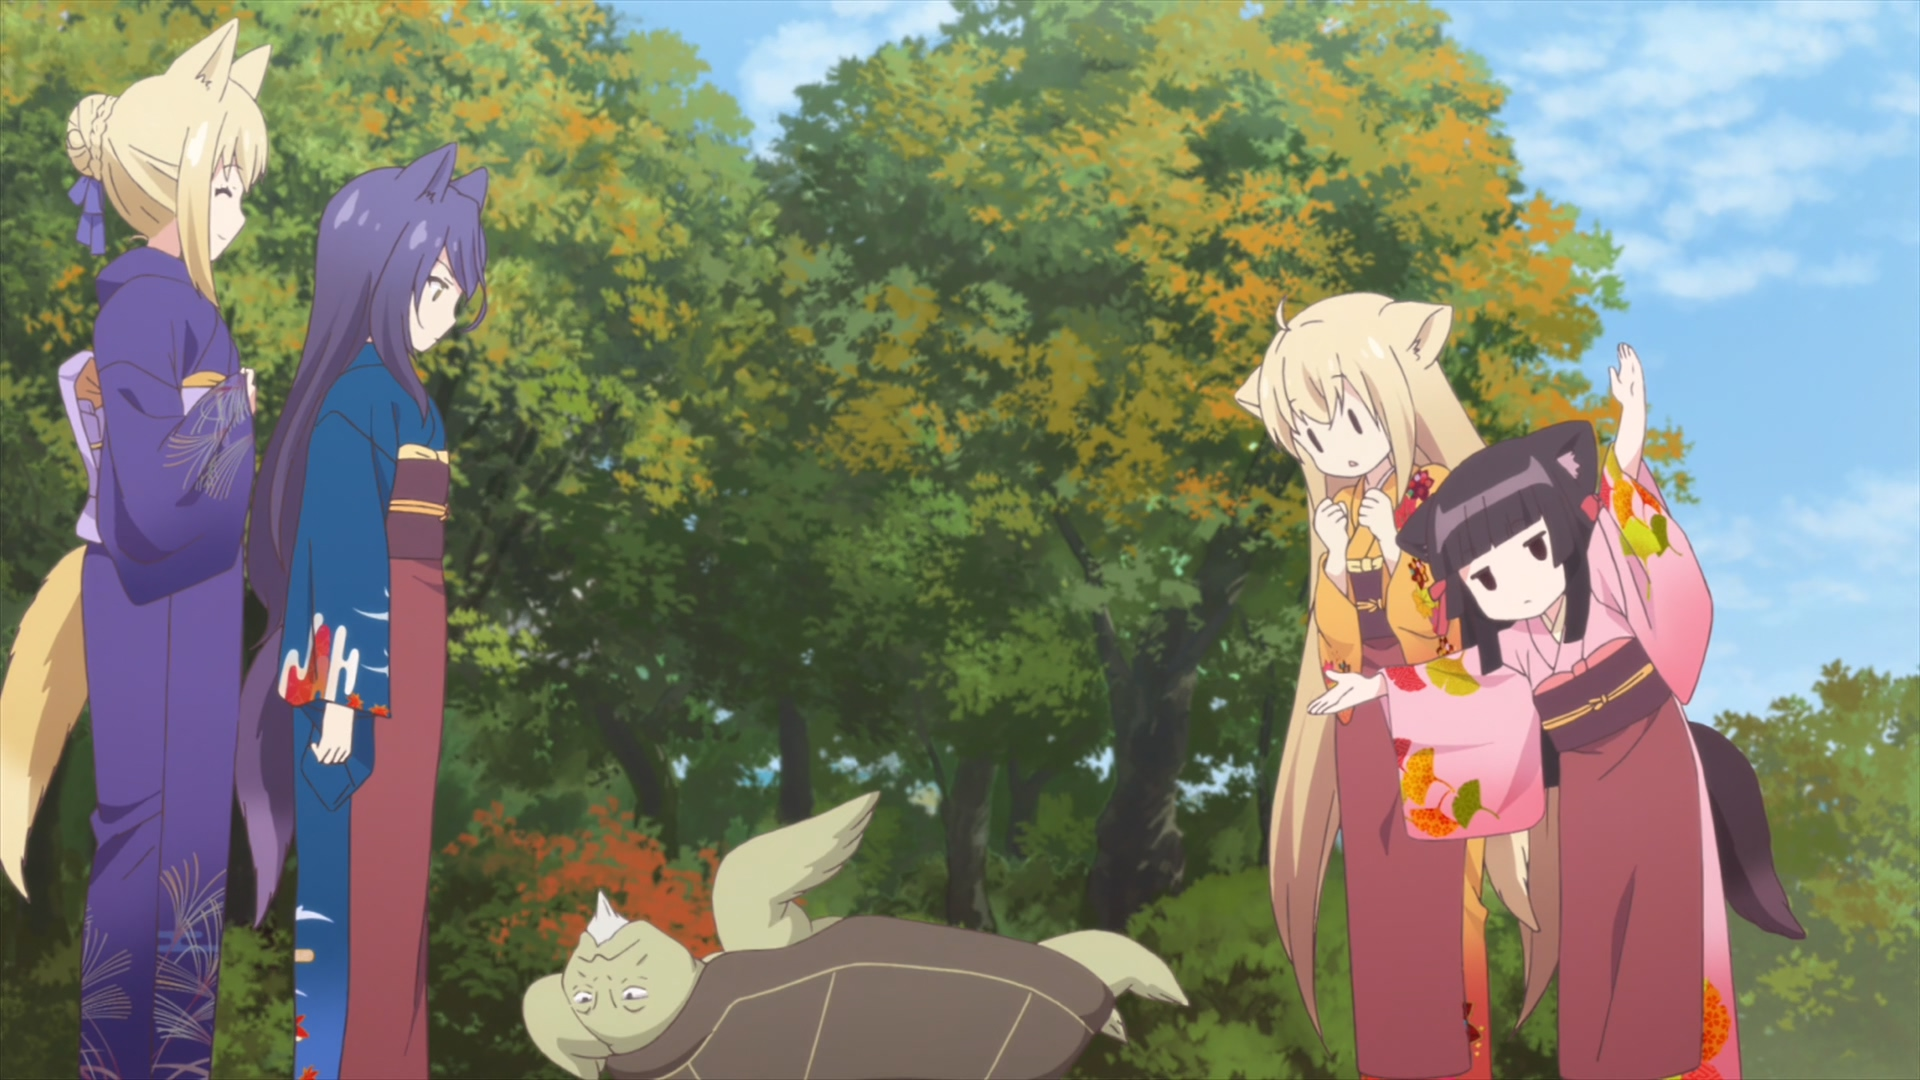其他: (524, 789, 1187, 1080)
柚: (1234, 291, 1559, 1080)
桐: (1, 16, 272, 1080)
樱: (1307, 345, 1807, 1080)
皋: (235, 142, 491, 1080)
